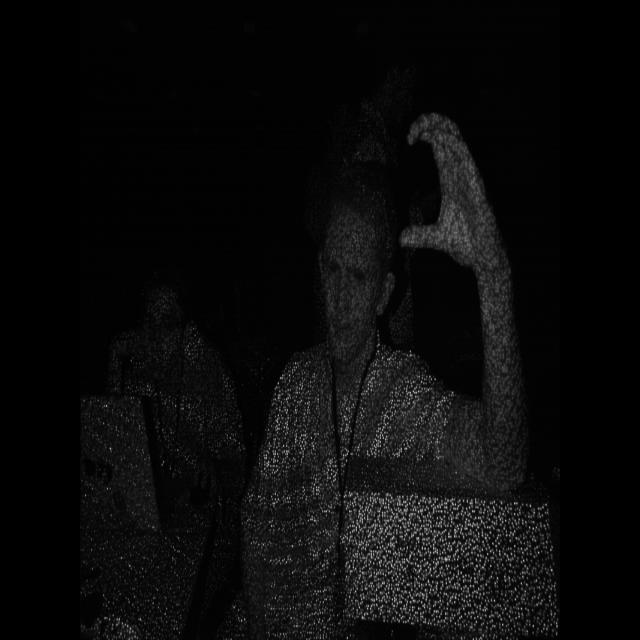C: (387, 101, 513, 264)
